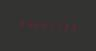five: (24, 18, 30, 29)
one: (52, 20, 58, 31)
seven: (45, 19, 51, 31)
three: (66, 21, 72, 32)
two: (31, 18, 37, 30), (59, 20, 65, 32), (38, 19, 44, 30)
zero: (17, 17, 23, 29)
